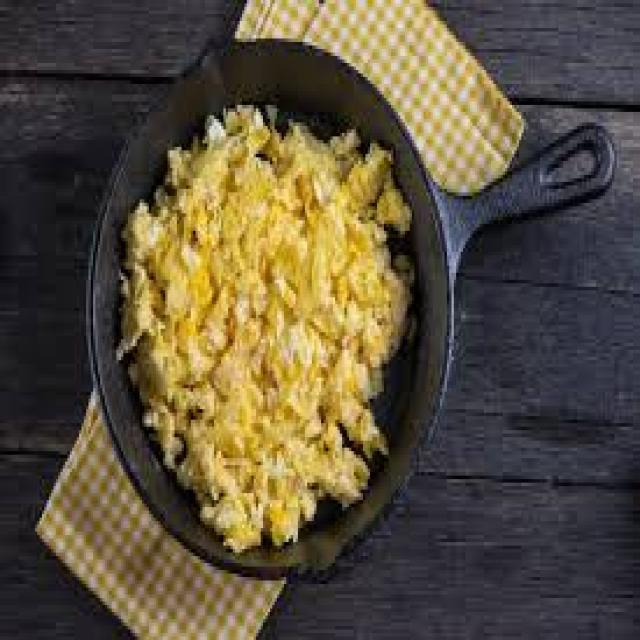telur_orak_arik: (112, 98, 421, 557)
